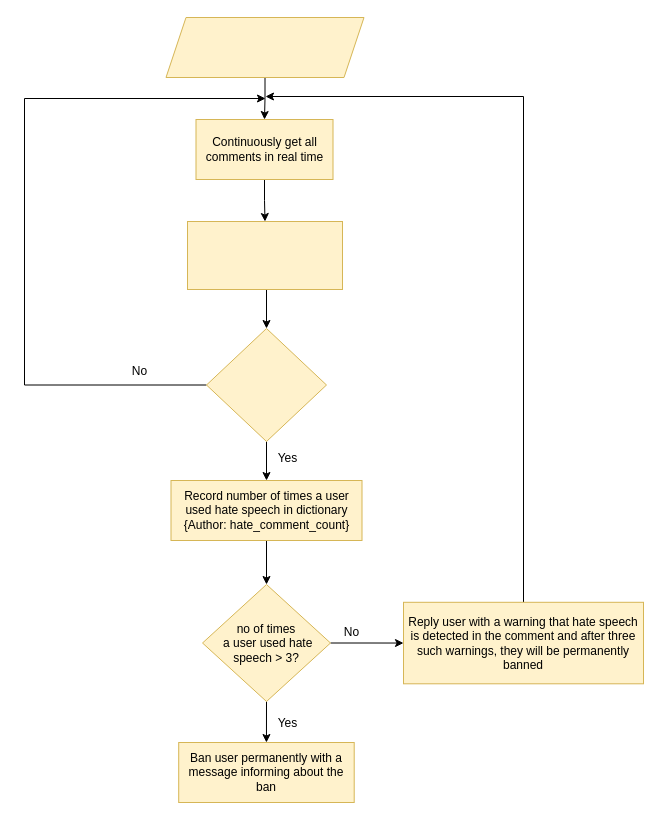
Some shapes in this 661 by 820 pixel diagram are drawn without their labels. The centre of each missing label's shape, as x and y in pixels:
"For each comment use Bert model to predict if it is hate speech" goes at point (264, 255).
"Is comment hate speech?" goes at point (266, 385).
"Subreddit Name, Pickled Hate speech classification model" goes at point (264, 47).
